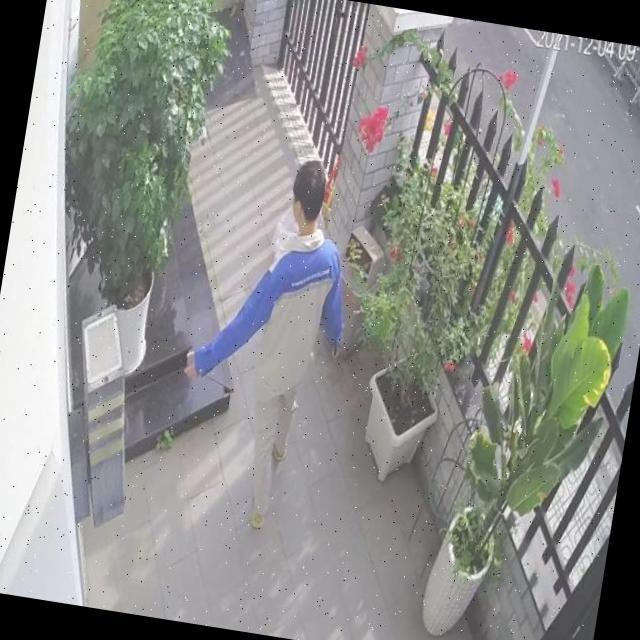person: (165, 148, 370, 536)
